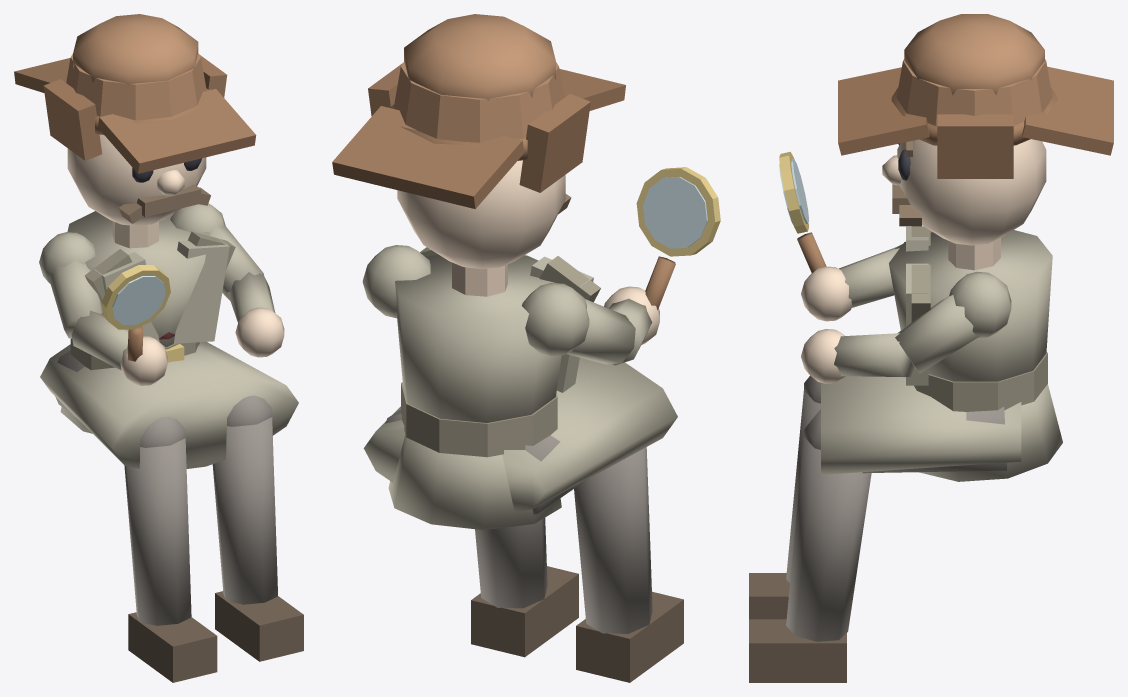
Rendered from meeple_11_detektiv.glb.
3 renders of one model, left to right at view 1: azimuth 30°, elevation 25°; view 2: azimuth 150°, elevation 25°; view 3: azimuth 270°, elevation 25°, orthographic. The views are drawn at different scales.
Parts seen in each view (by area): view 1: meeple_11_detektiv; view 2: meeple_11_detektiv; view 3: meeple_11_detektiv.
Part boxes in pixels (box(x1,y1,x2,y2)): meeple_11_detektiv: box(14, 14, 303, 682); meeple_11_detektiv: box(332, 14, 720, 682); meeple_11_detektiv: box(749, 14, 1113, 682).
Size of the model in its own units: 0.5669 by 1.44 by 0.7644.
